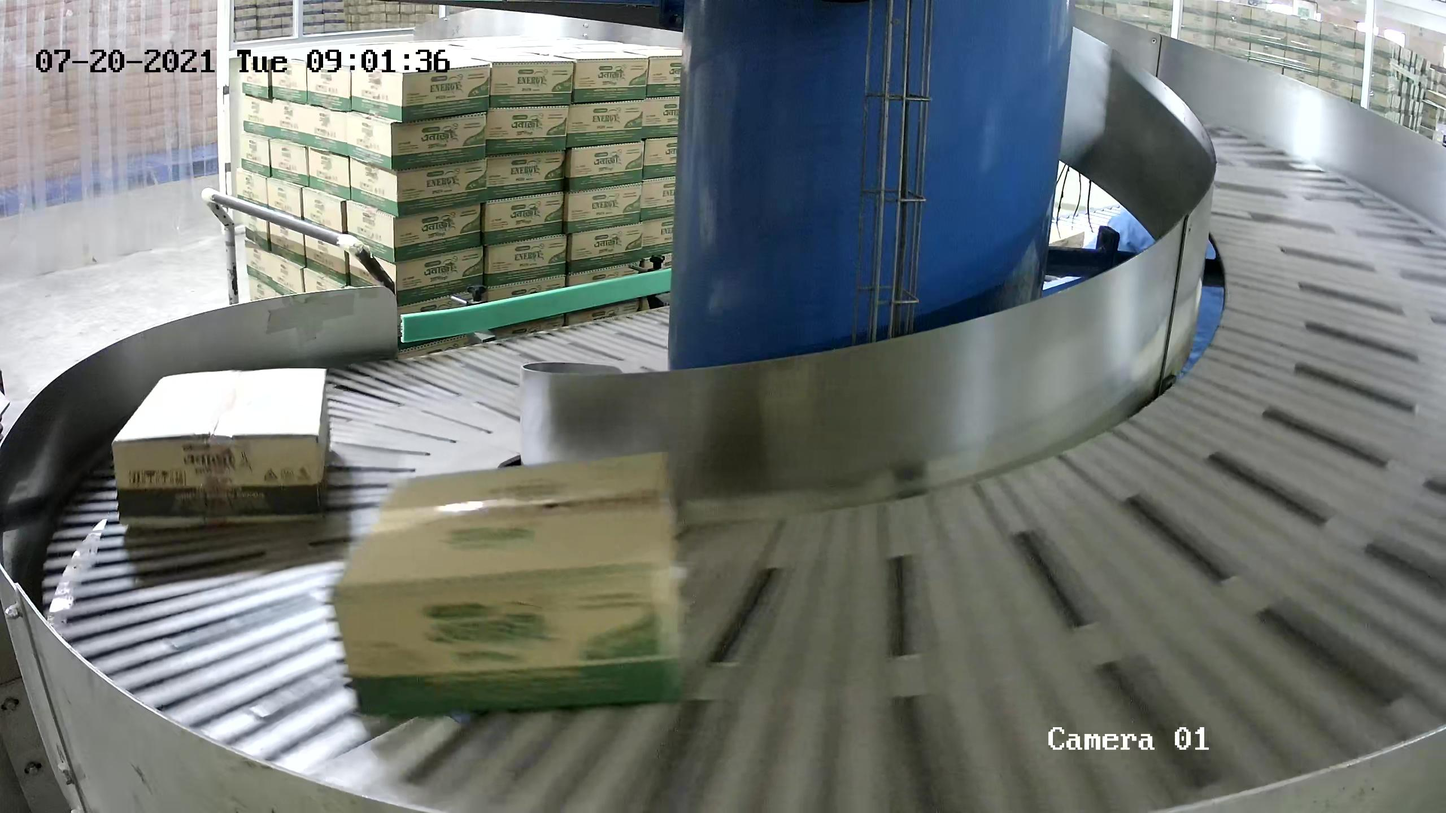Box: (327, 447, 691, 717), (110, 365, 332, 527)
